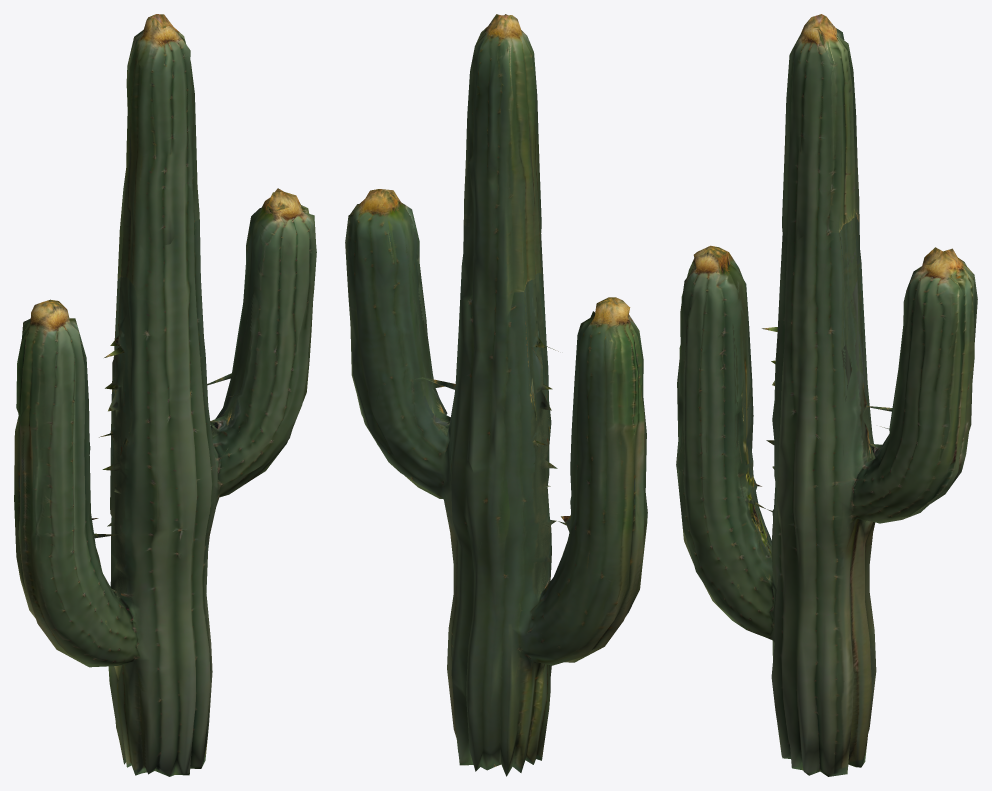
File: desert_cactus_without_1120182902_texture.fbx
3 views of the same model, side by side, from view 1: azimuth 30°, elevation 25°; view 2: azimuth 150°, elevation 25°; view 3: azimuth 330°, elevation 25° (orthographic).
Parts seen in each view (by area): view 1: Mesh1.0; view 2: Mesh1.0; view 3: Mesh1.0.
Part boxes in pixels (x1,y1,x2,y2): Mesh1.0: [14, 14, 316, 776]; Mesh1.0: [345, 14, 647, 776]; Mesh1.0: [676, 14, 977, 776].
Size of the model in its own units: 81.84 by 200 by 26.06.
1 material, 1 textured.
